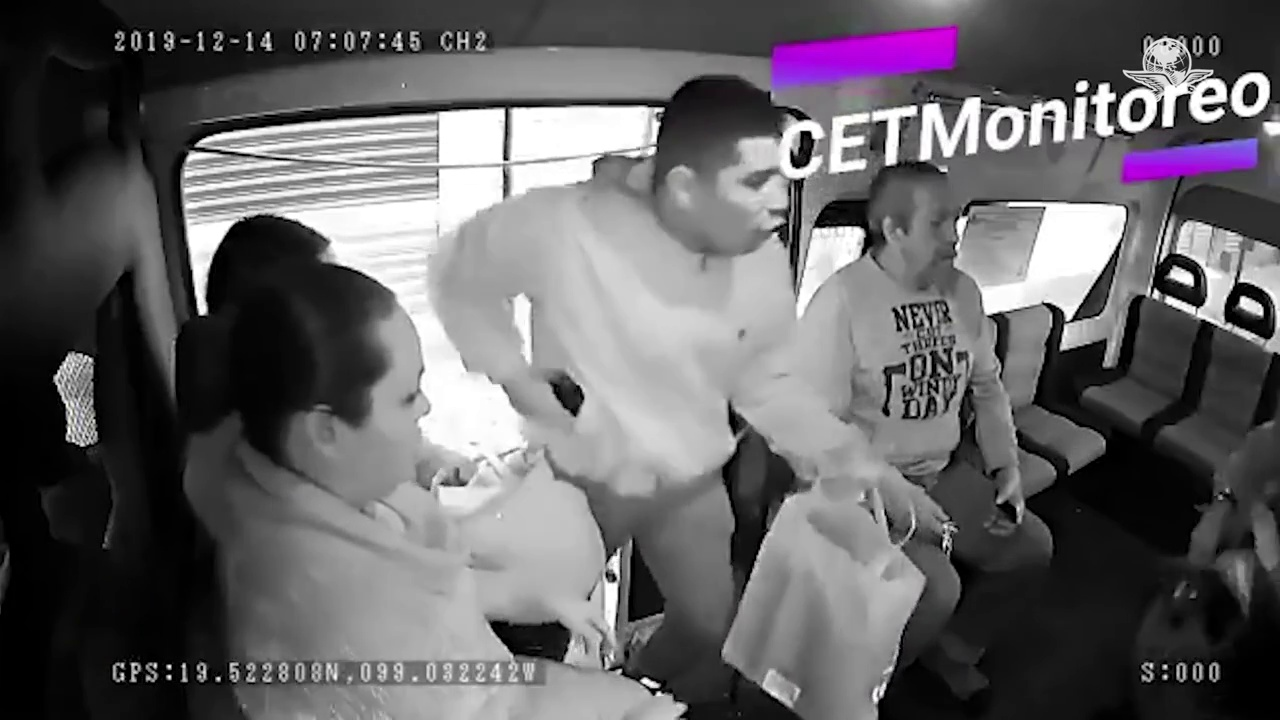pistol: (541, 368, 596, 435)
